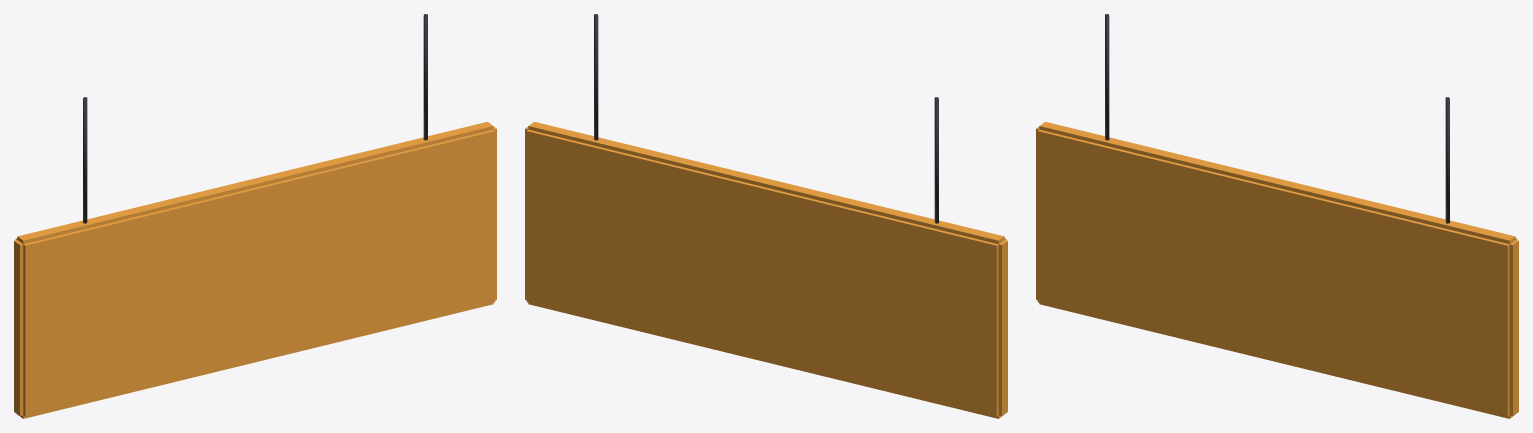
Rendered from aisle_sign.glb.
The picture shows the model from 3 angles, left to right: view 1: azimuth 30°, elevation 25°; view 2: azimuth 150°, elevation 25°; view 3: azimuth 330°, elevation 25°; orthographic projection.
Parts seen in each view (by area): view 1: aisle_sign; view 2: aisle_sign; view 3: aisle_sign.
Boxes of the visible parts, bbox=[...] form: aisle_sign: bbox=[14, 14, 496, 418]; aisle_sign: bbox=[525, 14, 1007, 418]; aisle_sign: bbox=[1036, 14, 1518, 418].
Size of the model in its own units: 1.4 by 0.85 by 0.05.
